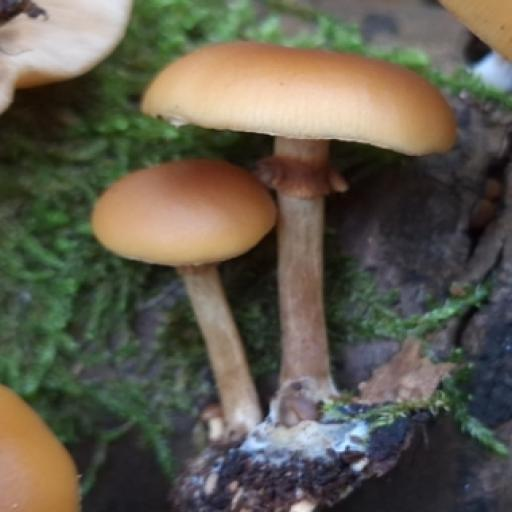mushroom: (87, 22, 467, 392)
